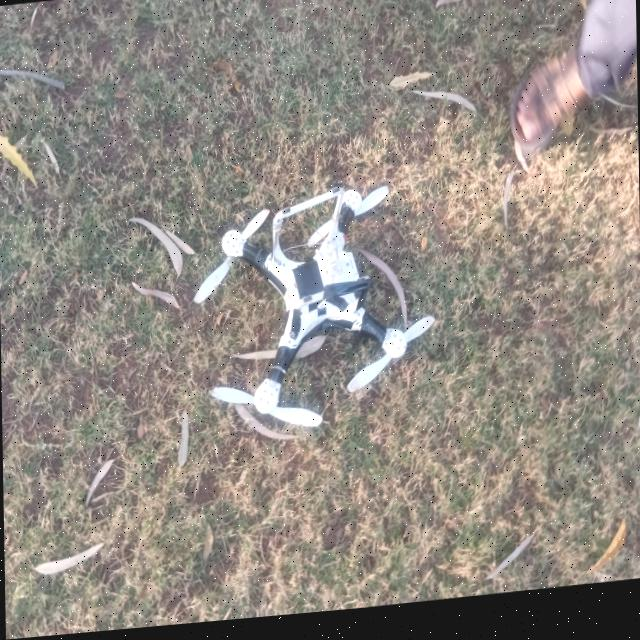drone: (165, 170, 434, 460)
